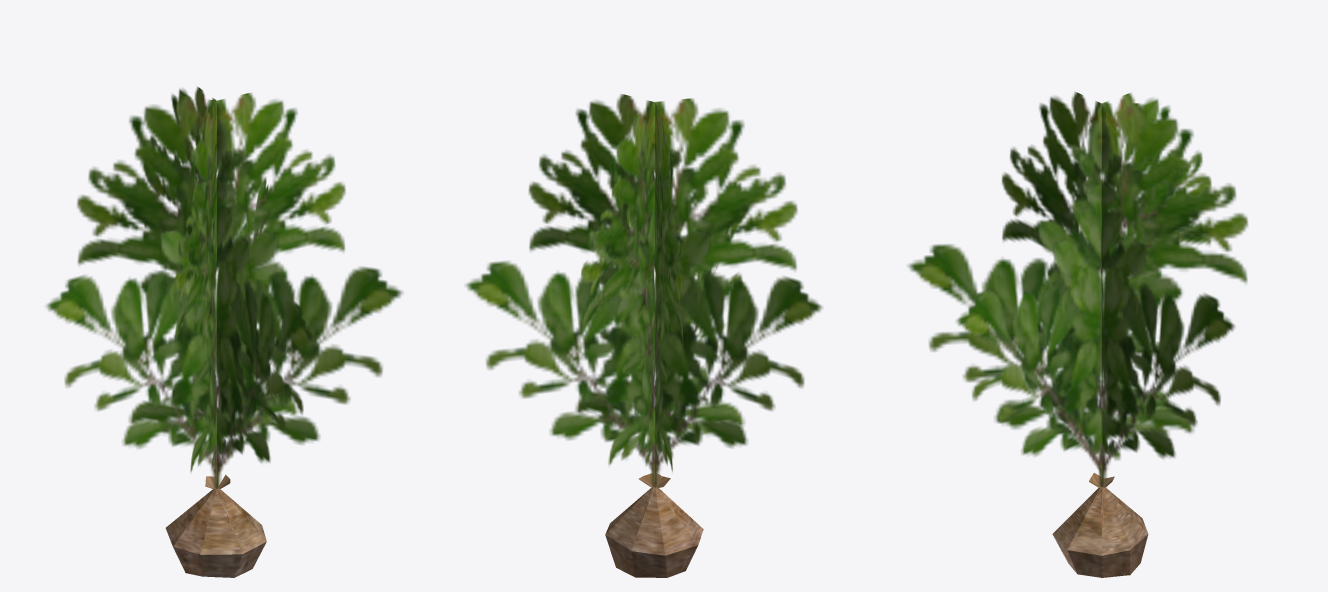
3 views of the same model, side by side, from view 1: azimuth 30°, elevation 25°; view 2: azimuth 150°, elevation 25°; view 3: azimuth 270°, elevation 25° (orthographic).
Visible parts, largest first — view 1: Green_Plant; view 2: Green_Plant; view 3: Green_Plant.
Part boxes in pixels (x1=…): Green_Plant: x1=46, y1=86, x2=402, y2=577; Green_Plant: x1=465, y1=94, x2=822, y2=577; Green_Plant: x1=908, y1=92, x2=1247, y2=577.
Bounding box in the file's own units: 3.69 × 4.42 × 3.69.
1 material, 1 textured.
